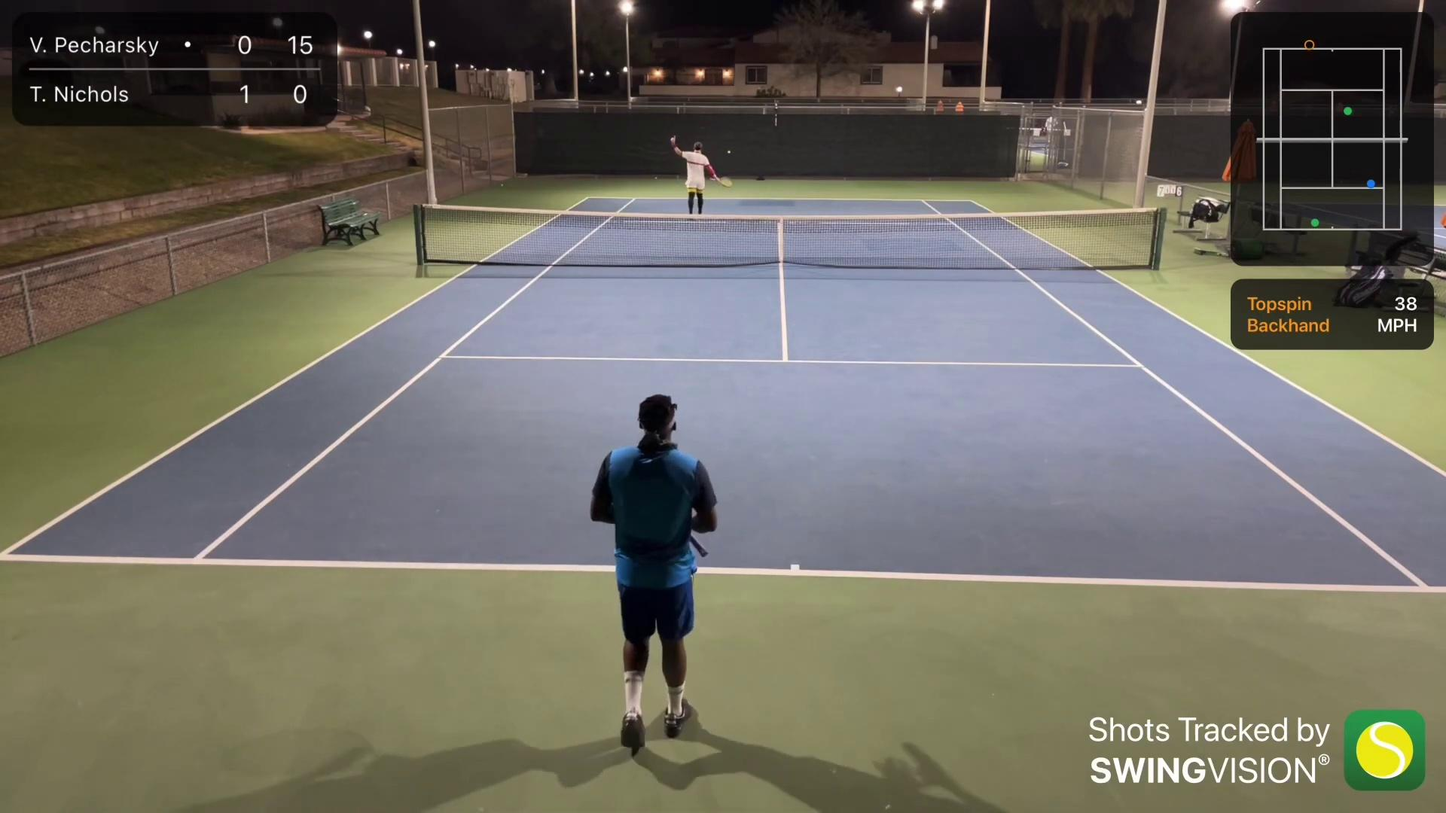ball: (725, 148, 734, 154), (498, 182, 505, 188)
